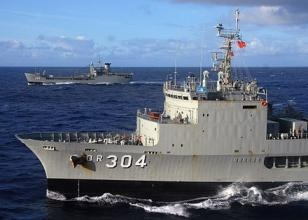warship: (14, 18, 308, 195), (24, 57, 134, 86)
